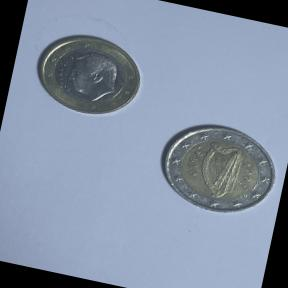1 Euro-B: (21, 21, 153, 130)
2 Euro-B: (150, 110, 288, 228)
